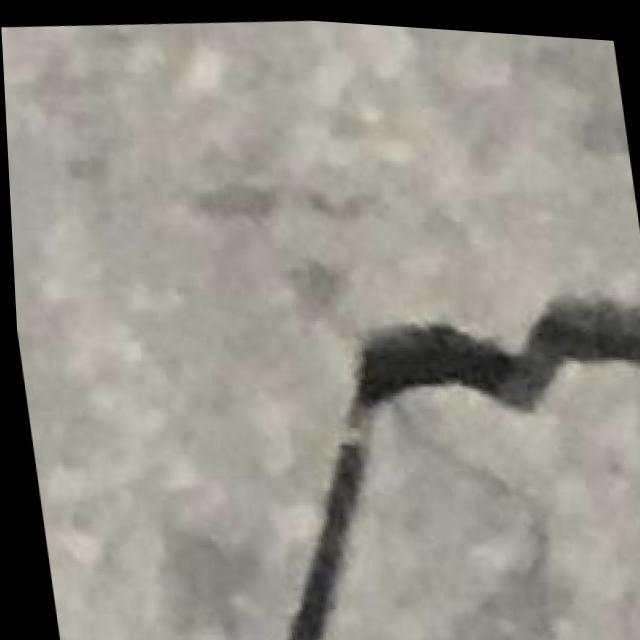Crack: (212, 236, 640, 640)
